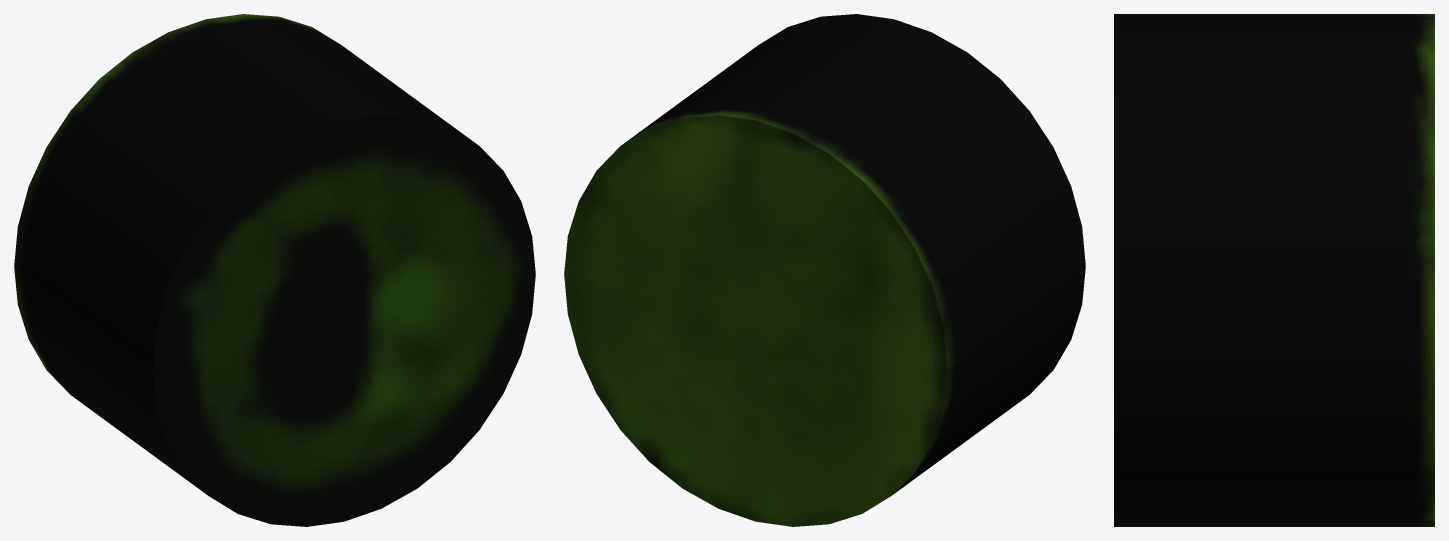
File: knob_0_1_part__knob.glb
3 views of the same model, side by side, from view 1: azimuth 30°, elevation 25°; view 2: azimuth 150°, elevation 25°; view 3: azimuth 270°, elevation 25° (orthographic). The views are drawn at different scales.
Visible parts, largest first — view 1: geometry_0; view 2: geometry_0; view 3: geometry_0.
Part boxes in pixels (bbox=[...]): geometry_0: bbox=[14, 14, 535, 526]; geometry_0: bbox=[564, 14, 1085, 526]; geometry_0: bbox=[1114, 14, 1434, 526].
Bounding box in the file's own units: 0.016 × 0.016 × 0.01.
1 material, 1 textured.
